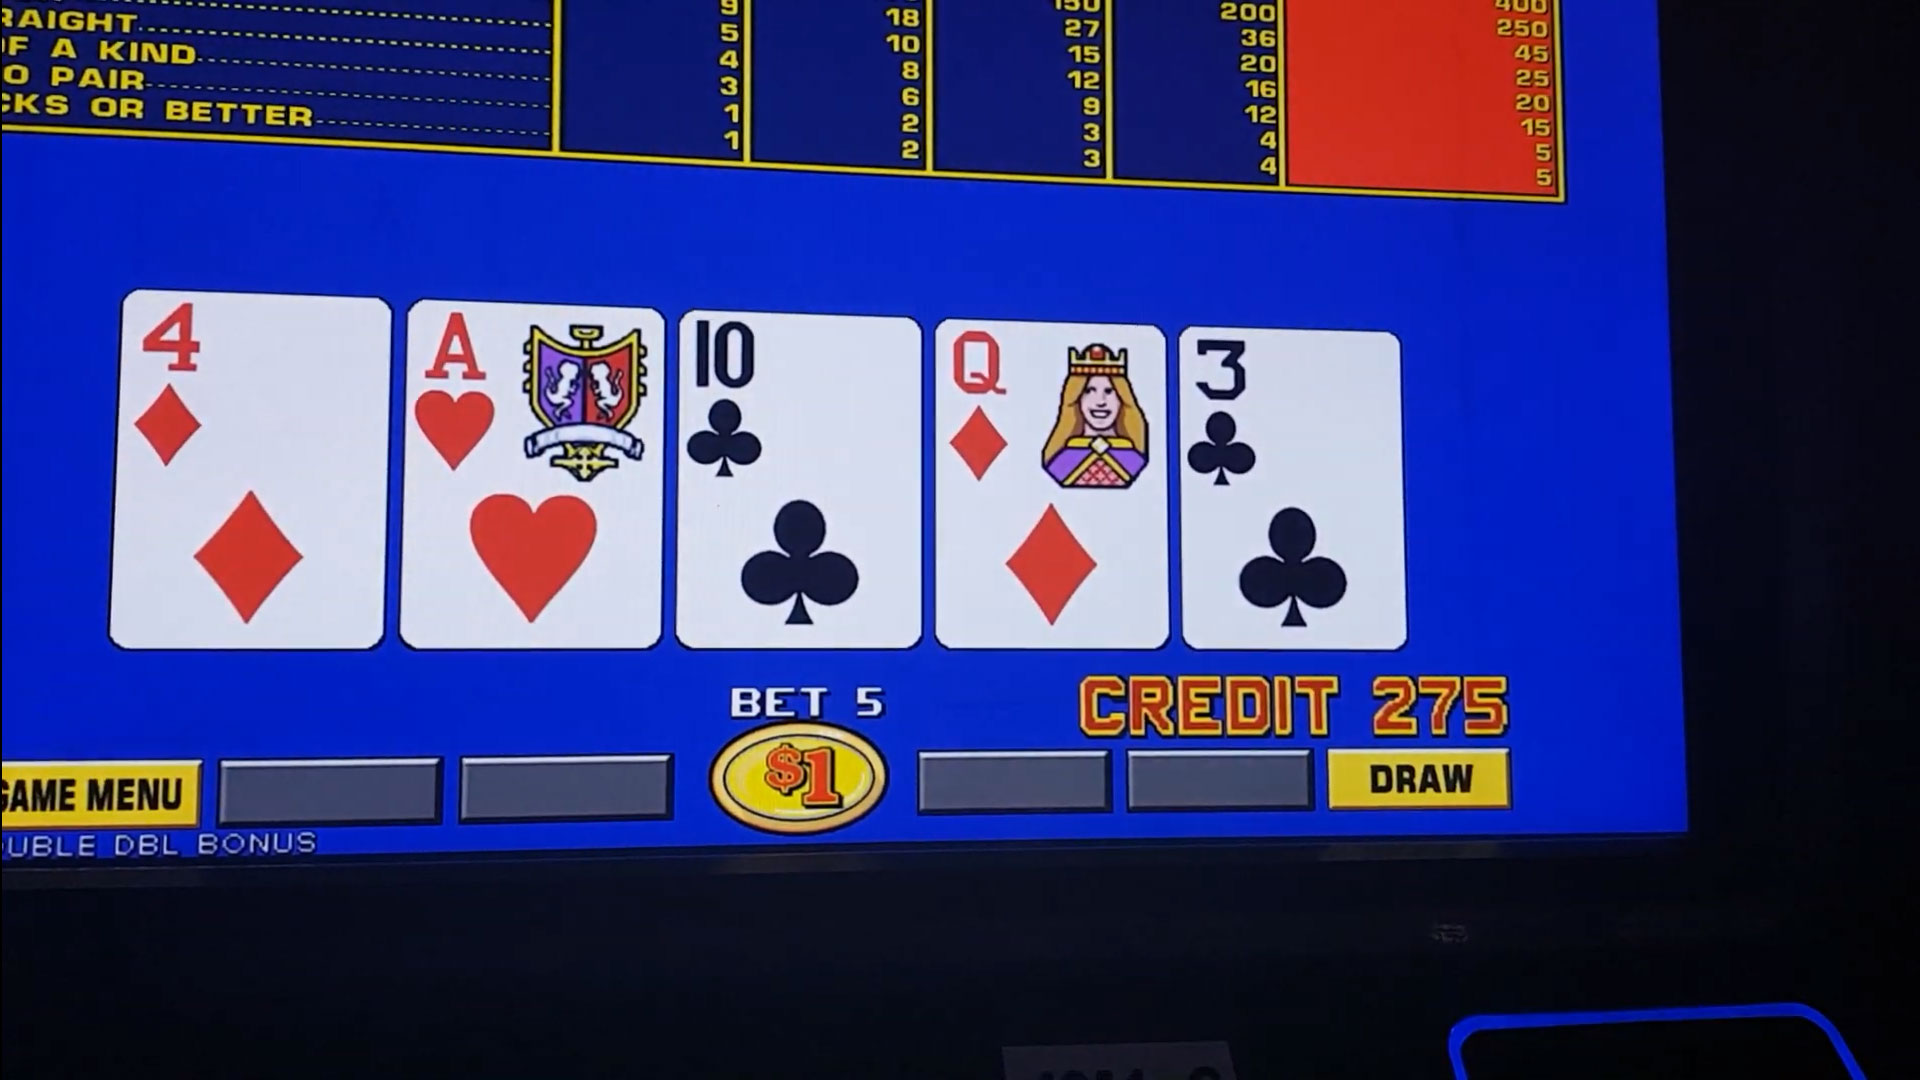C3: (1184, 332, 1396, 505)
CT: (688, 316, 927, 491)
D4: (135, 306, 380, 479)
DQ: (936, 323, 1170, 498)
HA: (410, 305, 655, 475)
